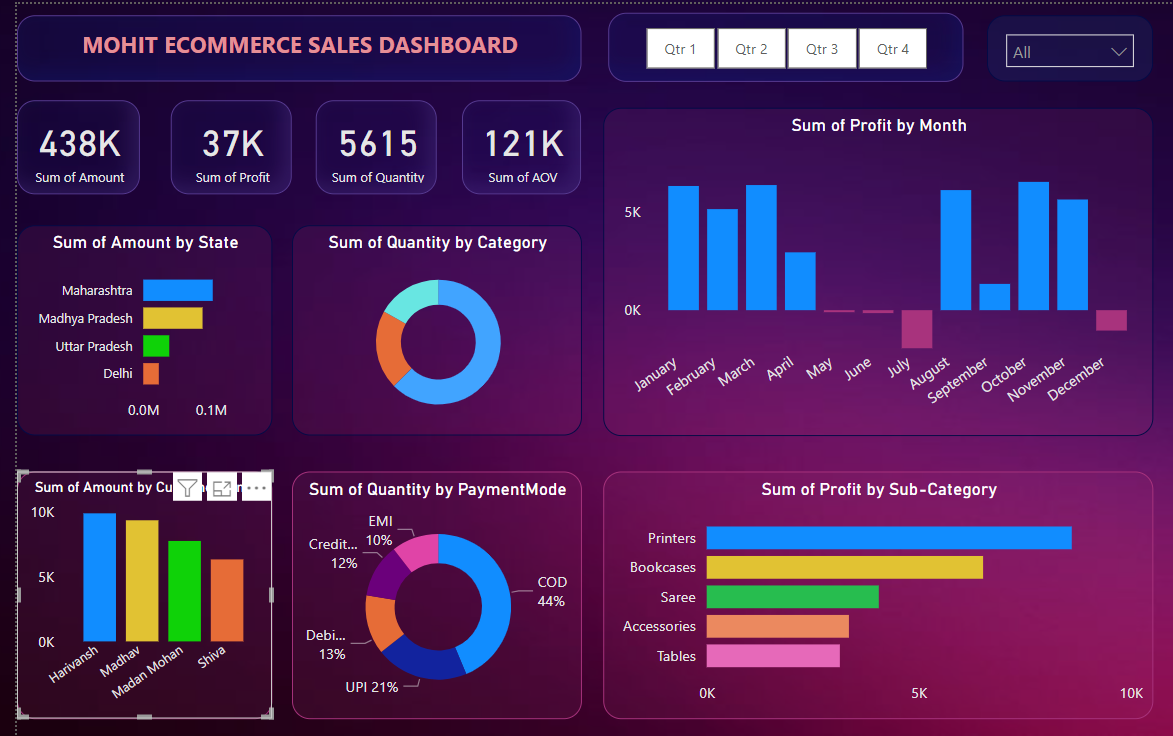

This screenshot's page, from the dashboard's own definition file:
{"tool":"powerbi","page":{"name":"Page 1","canvas":[1280,720],"ordinal":0},"visuals":[{"type":"textbox","box":[0,9.6,470.2,55.3],"z":0},{"type":"columnChart","fields":{"Category":["Orders.Order Date.Variation.Date Hierarchy.Month"],"Y":["Details.Profit"]},"box":[488.3,86.2,458.5,273.4],"z":1000},{"type":"barChart","fields":{"Category":["Details.Sub-Category"],"Y":["Details.Profit"]},"box":[488.3,389.4,458.5,206.4],"z":2000},{"type":"donutChart","fields":{"Category":["Details.Category"],"Y":["Details.Quantity"]},"box":[228.7,184,241.5,175.5],"z":3000},{"type":"donutChart","fields":{"Y":["Details.Quantity"],"Category":["Details.PaymentMode"]},"box":[228.7,389.4,241.5,206.4],"z":4000},{"type":"card","fields":{"Values":["Details.Profit"]},"box":[127.7,79.8,101.1,78.7],"z":5000},{"type":"card","fields":{"Values":["Details.Amount"]},"box":[0,79.8,102.1,78.7],"z":6000},{"type":"card","fields":{"Values":["Details.Average Orders"]},"box":[371.3,79.8,98.9,78.7],"z":7000},{"type":"card","fields":{"Values":["Details.Quantity"]},"box":[249,80.2,101,78.1],"z":8000},{"type":"barChart","fields":{"Category":["Orders.State"],"Y":["Details.Amount"]},"box":[0,184,212.8,175.5],"z":9000},{"type":"columnChart","fields":{"Category":["Orders.CustomerName"],"Y":["Details.Amount"]},"box":[0,389.4,212.8,206.4],"z":10000},{"type":"slicer","fields":{"Values":["Orders.Order Date.Variation.Date Hierarchy.Quarter"]},"box":[492.6,7.4,295.7,57.4],"z":11000},{"type":"slicer","fields":{"Values":["Orders.State"]},"box":[808.5,9.6,138.3,55.3],"z":12000}]}

Visuals, with their boxes in screenshot pixels (x1, y1, x2, y2):
textbox: (x1=12, y1=0, x2=422, y2=26)
columnChart - Orders.Order Date.Variation.Date Hierarchy.Month x Details.Profit: (x1=438, y1=45, x2=838, y2=283)
barChart - Details.Sub-Category x Details.Profit: (x1=438, y1=309, x2=838, y2=489)
donutChart - Details.Category x Details.Quantity: (x1=212, y1=130, x2=422, y2=283)
donutChart - Details.Quantity x Details.PaymentMode: (x1=212, y1=309, x2=422, y2=489)
card - Details.Profit: (x1=124, y1=39, x2=212, y2=108)
card - Details.Amount: (x1=12, y1=39, x2=101, y2=108)
card - Details.Average Orders: (x1=336, y1=39, x2=422, y2=108)
card - Details.Quantity: (x1=229, y1=39, x2=317, y2=107)
barChart - Orders.State x Details.Amount: (x1=12, y1=130, x2=198, y2=283)
columnChart - Orders.CustomerName x Details.Amount: (x1=12, y1=309, x2=198, y2=489)
slicer - Orders.Order Date.Variation.Date Hierarchy.Quarter: (x1=442, y1=0, x2=699, y2=26)
slicer - Orders.State: (x1=717, y1=0, x2=838, y2=26)
